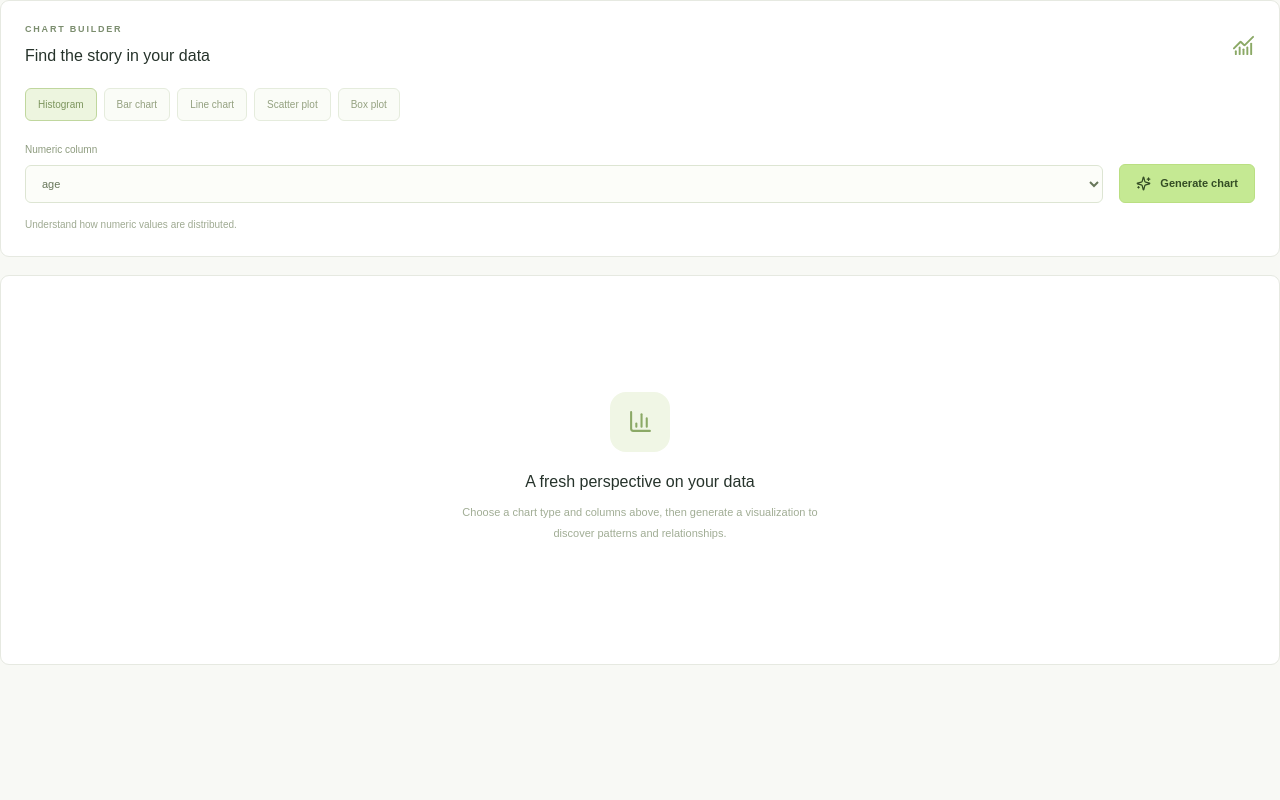
Test: ChartPanel › discards an in-flight result after the user changes chart type
The width and height of the screenshot is (1280, 800).
Click the button "Generate chart". click: (1187, 183)
box: [1119,164,1255,202]
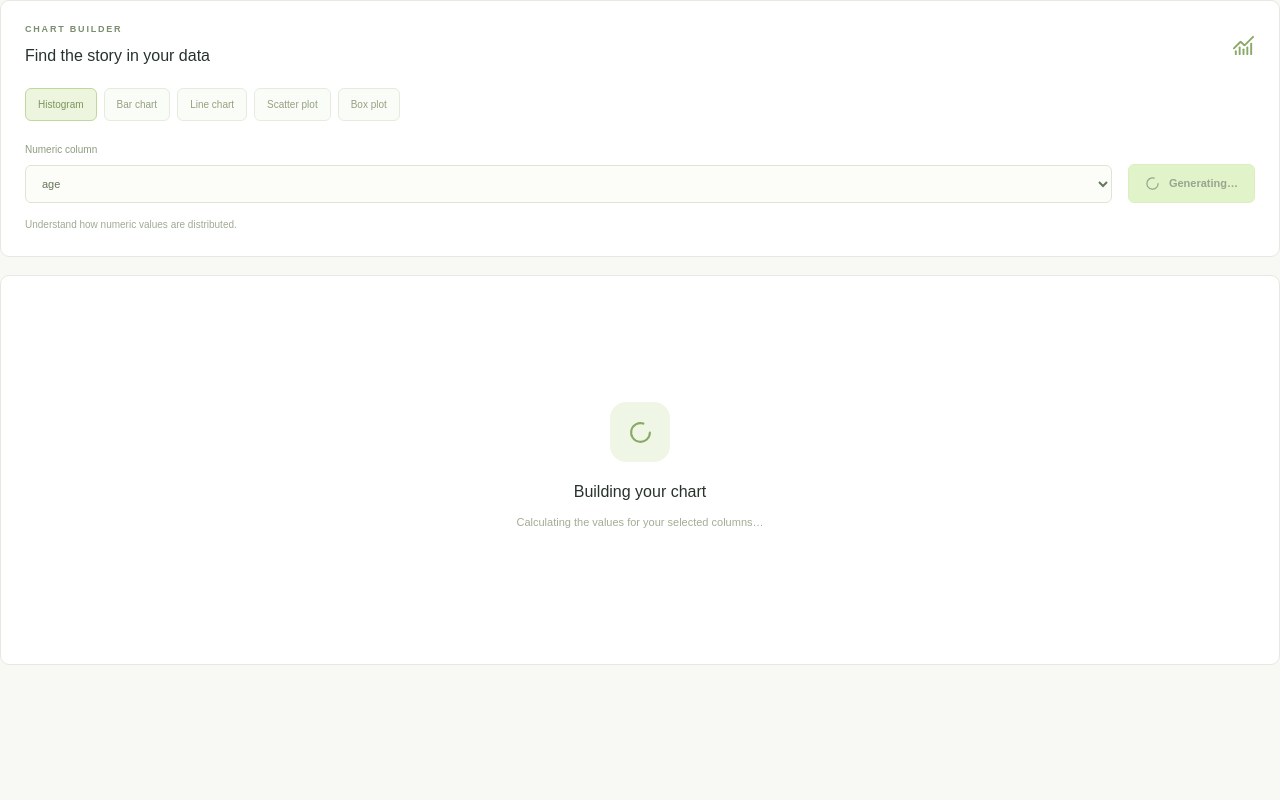
Result: the button "Generating…" is disabled at [1128,164,1255,202]
Click the button "Bar chart". click: (137, 104)
box: [104,88,170,120]
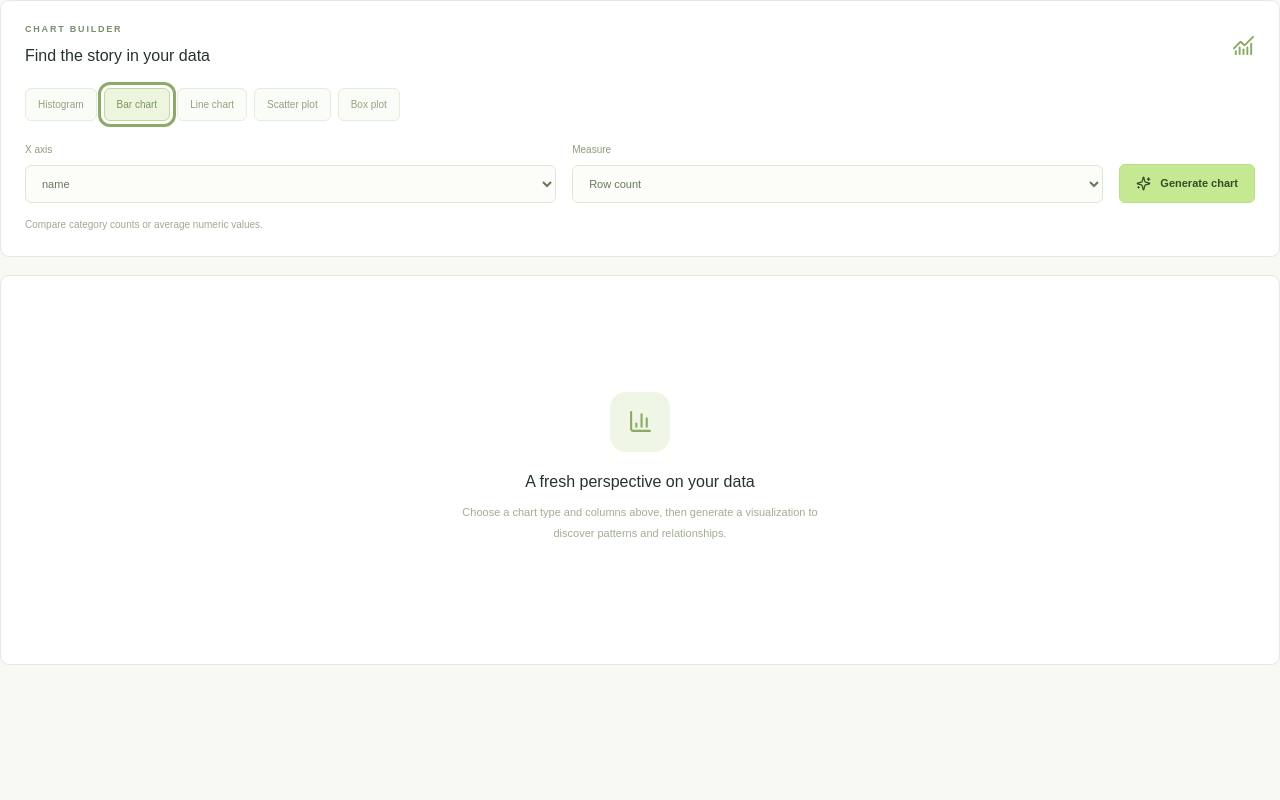
Result: the button "Generate chart" is enabled at [1119,164,1255,202]
Result: the dropdown named "Chart X column" shows "name" at [25,164,556,202]
